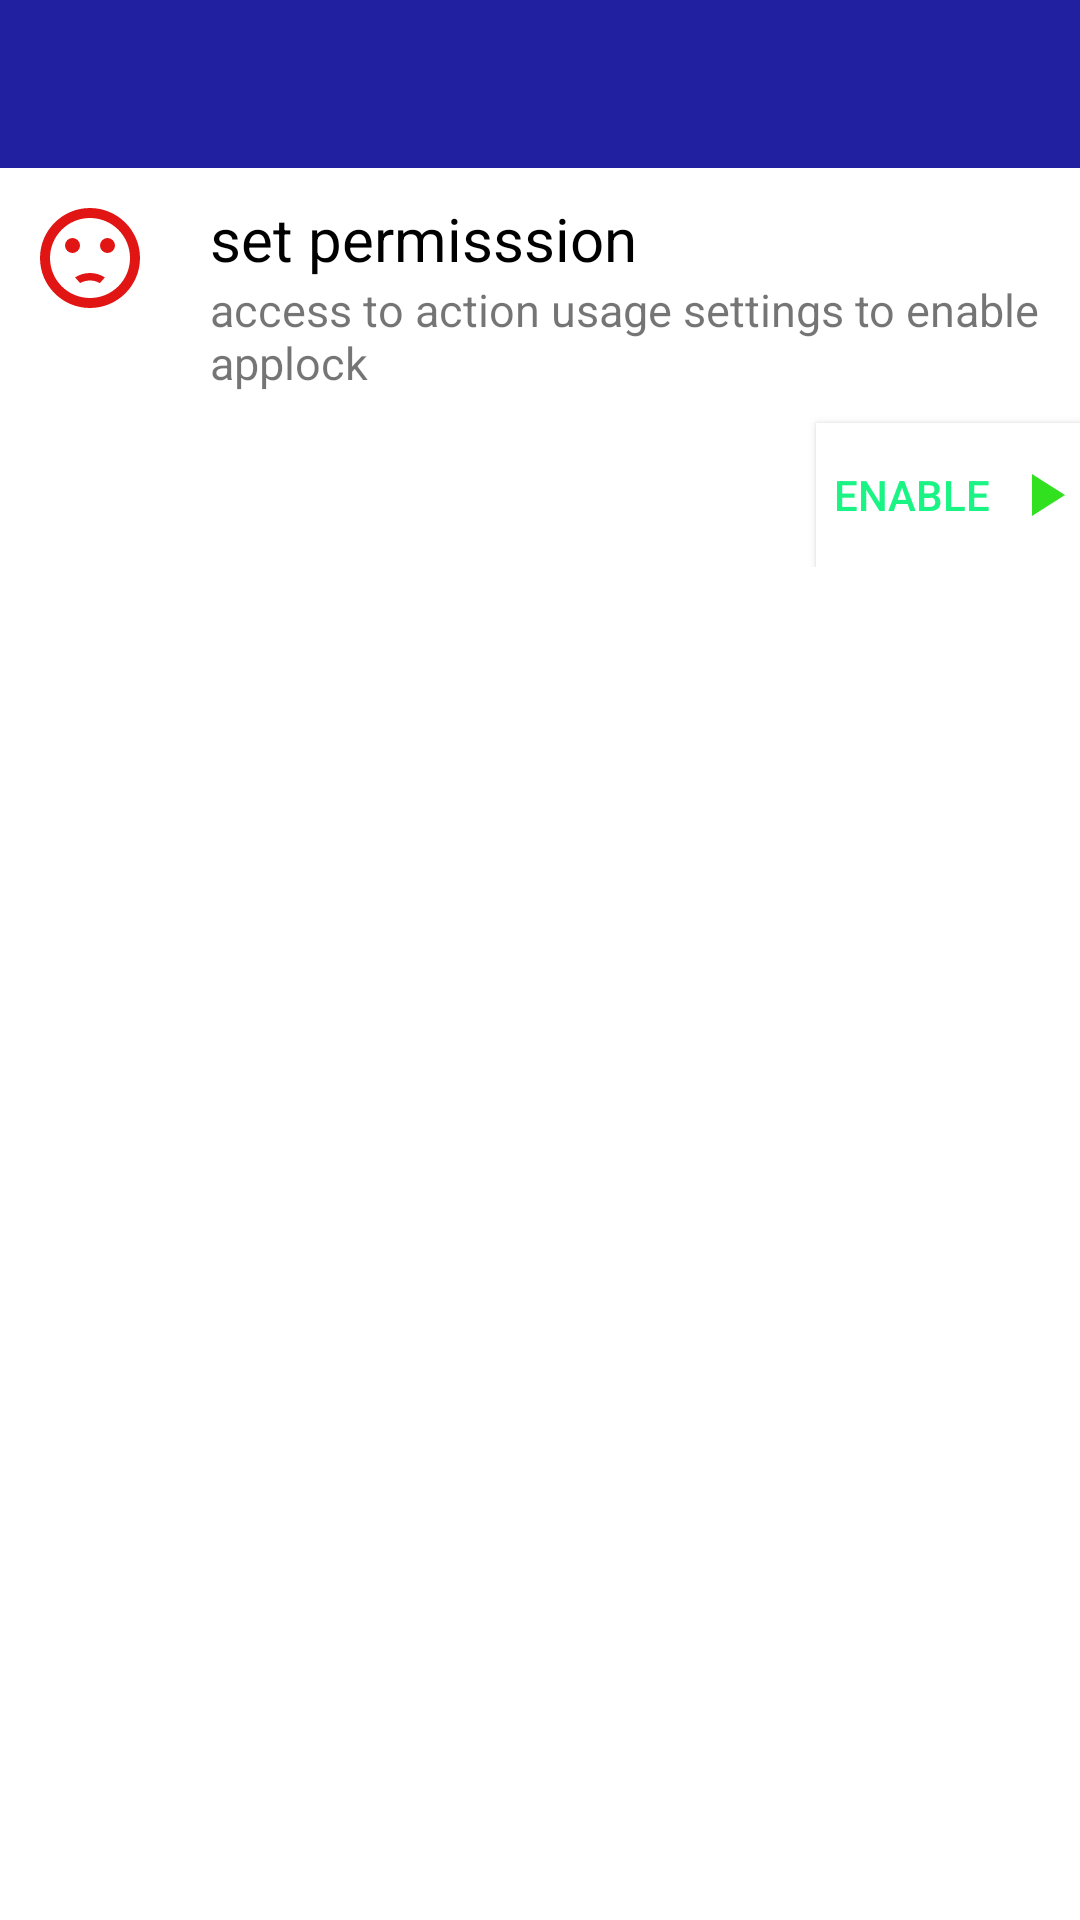

Named icons in this screenshot (1080px×1920px) and their bounding boxes, (x1, y1, x2, y2):
sentiment dissatisfied: (40, 208, 140, 308)
